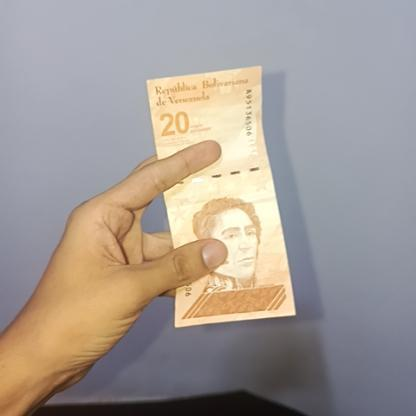twenty-front-vef: (146, 66, 297, 328)
